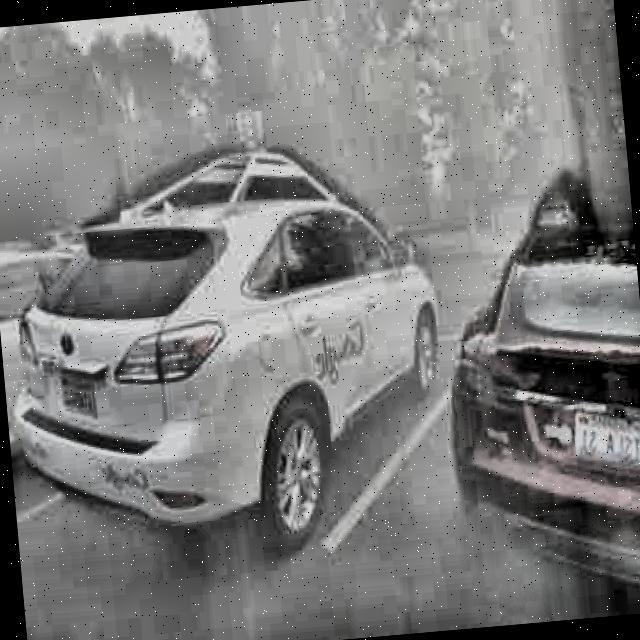license_plate: (569, 407, 640, 470), (54, 367, 100, 422)
